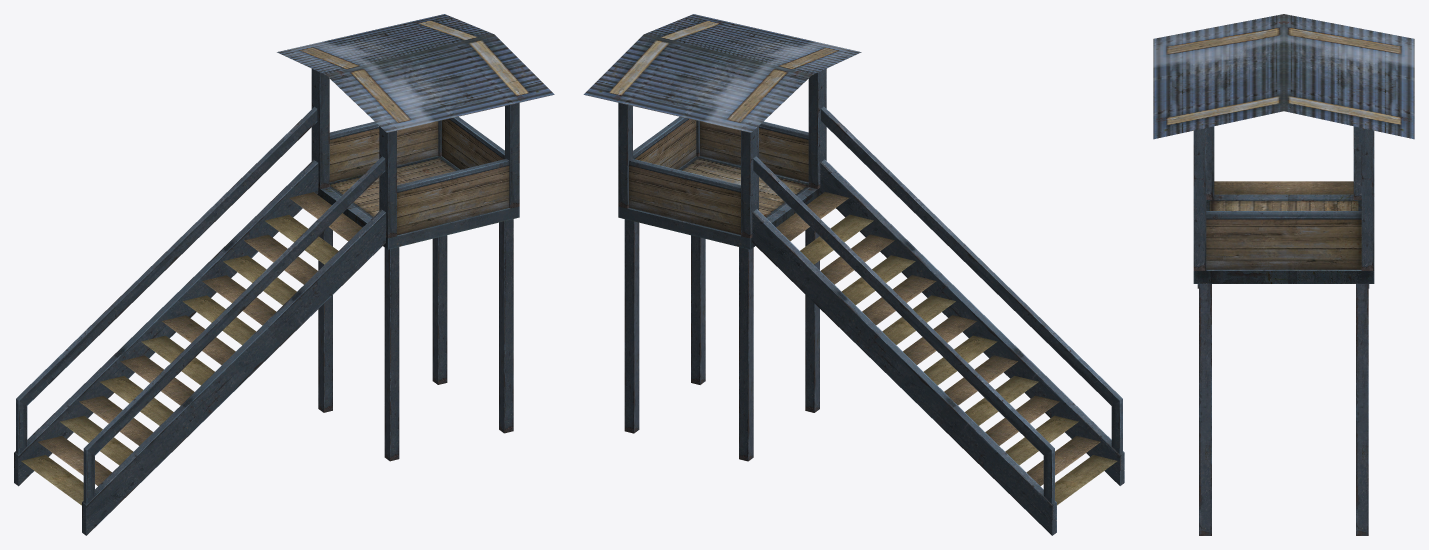
The model's file is Prop_Lwt01_v2_lod2.glb.
3 views of the same model, side by side, from view 1: azimuth 30°, elevation 25°; view 2: azimuth 150°, elevation 25°; view 3: azimuth 270°, elevation 25° (orthographic). The views are drawn at different scales.
Visible parts, largest first — view 1: xiutz_lwt_01_lod2; view 2: xiutz_lwt_01_lod2; view 3: xiutz_lwt_01_lod2.
Part boxes in pixels (<box>): xiutz_lwt_01_lod2: <box>14,14,554,535</box>; xiutz_lwt_01_lod2: <box>583,14,1124,535</box>; xiutz_lwt_01_lod2: <box>1153,14,1414,535</box>.
Bounding box in the file's own units: 11.95 × 9.3 × 5.08.
1 material, 1 textured.
